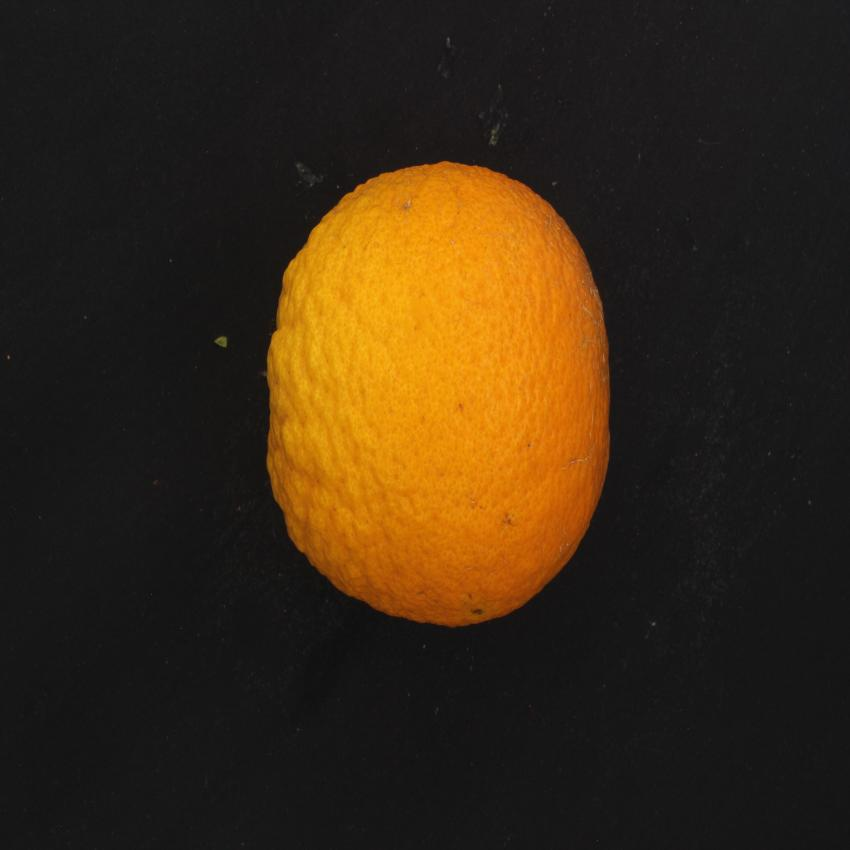Buen estado: (256, 147, 626, 642)
